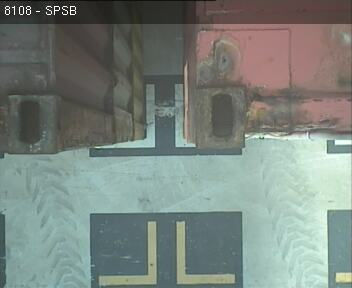groundmarker_1: (99, 220, 233, 286), (92, 83, 193, 148)
